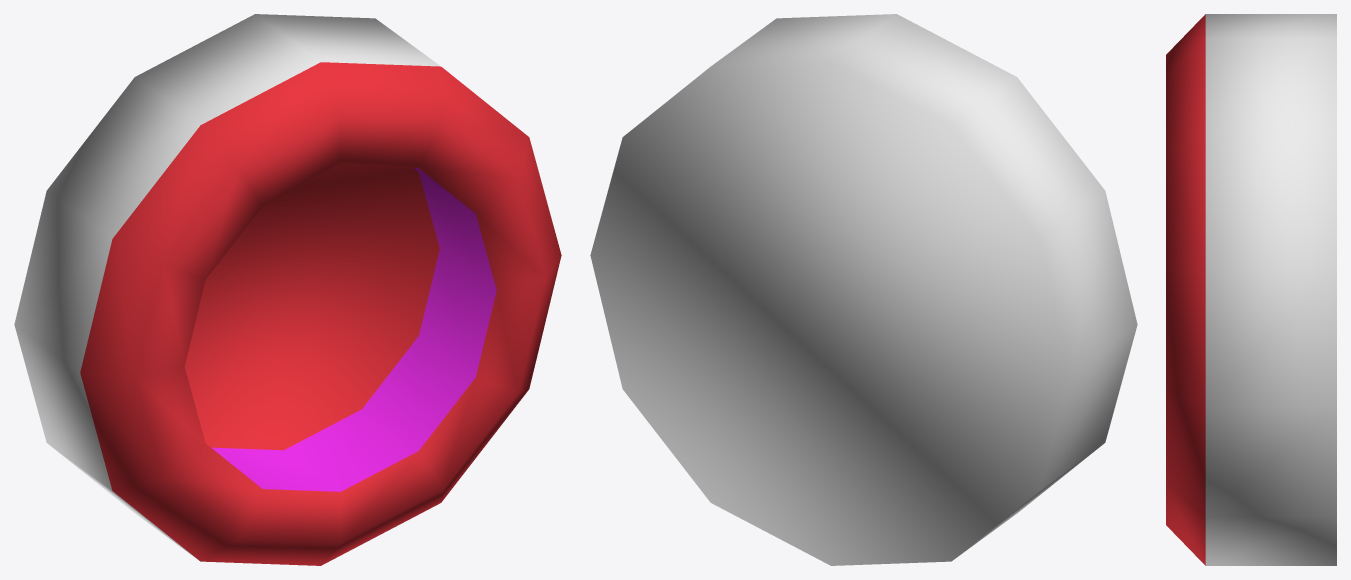
Rendered from ConstellationPoint.fbx.
3 renders of one model, left to right at view 1: azimuth 30°, elevation 25°; view 2: azimuth 150°, elevation 25°; view 3: azimuth 270°, elevation 25°, orthographic.
Visible parts, largest first — view 1: Cylinder.012; view 2: Cylinder.012; view 3: Cylinder.012.
Boxes of the visible parts, box(x1,y1,x2,y2) form: Cylinder.012: box(14, 14, 561, 565); Cylinder.012: box(590, 14, 1137, 565); Cylinder.012: box(1166, 14, 1336, 565).
Bounding box in the file's own units: 9 × 9 × 2.77.
